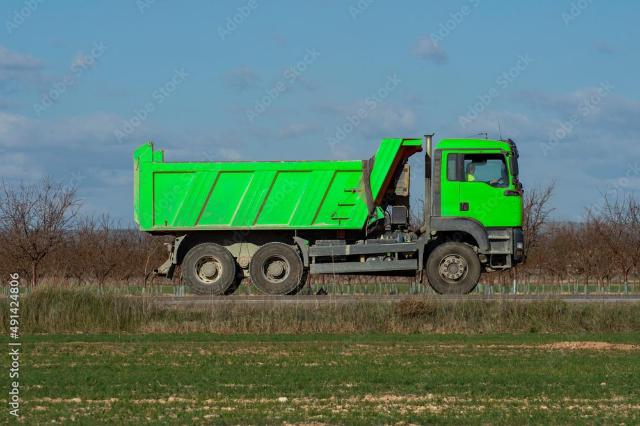truck: (74, 109, 557, 315)
